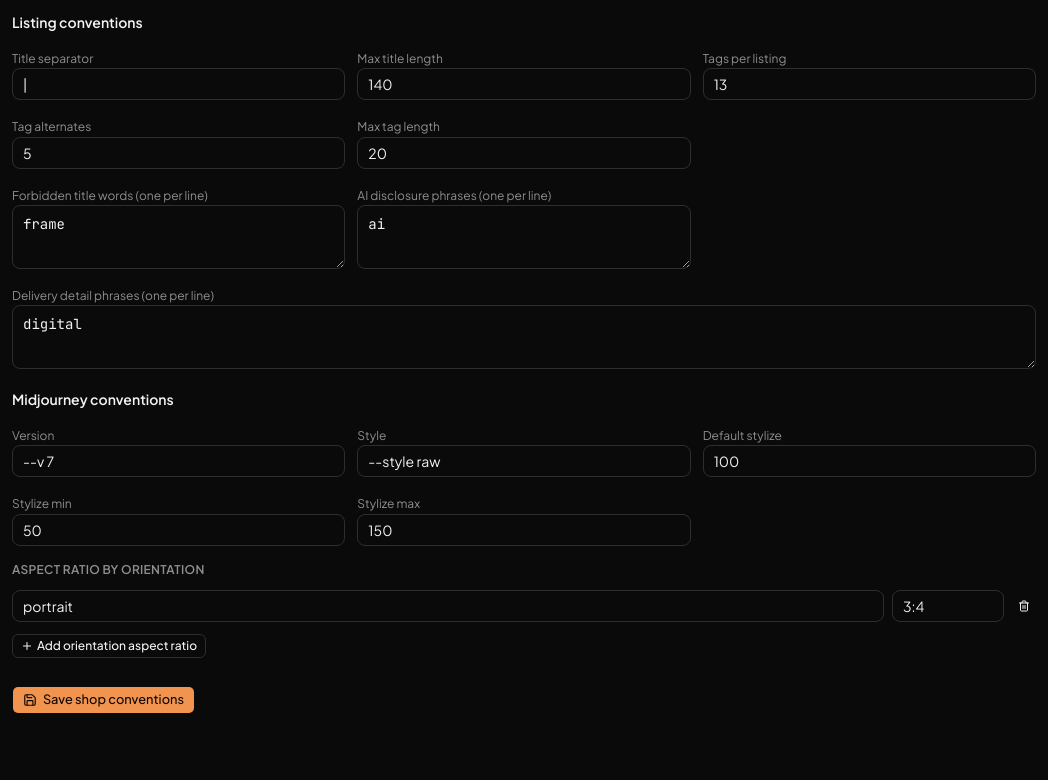
Test: ShopConventions › saves edits successfully
Expected: the field showing "|" is shown, [12,68,345,100]
Replace the text in the number field showing "140" with "150": (524, 84) [357,68,691,100]
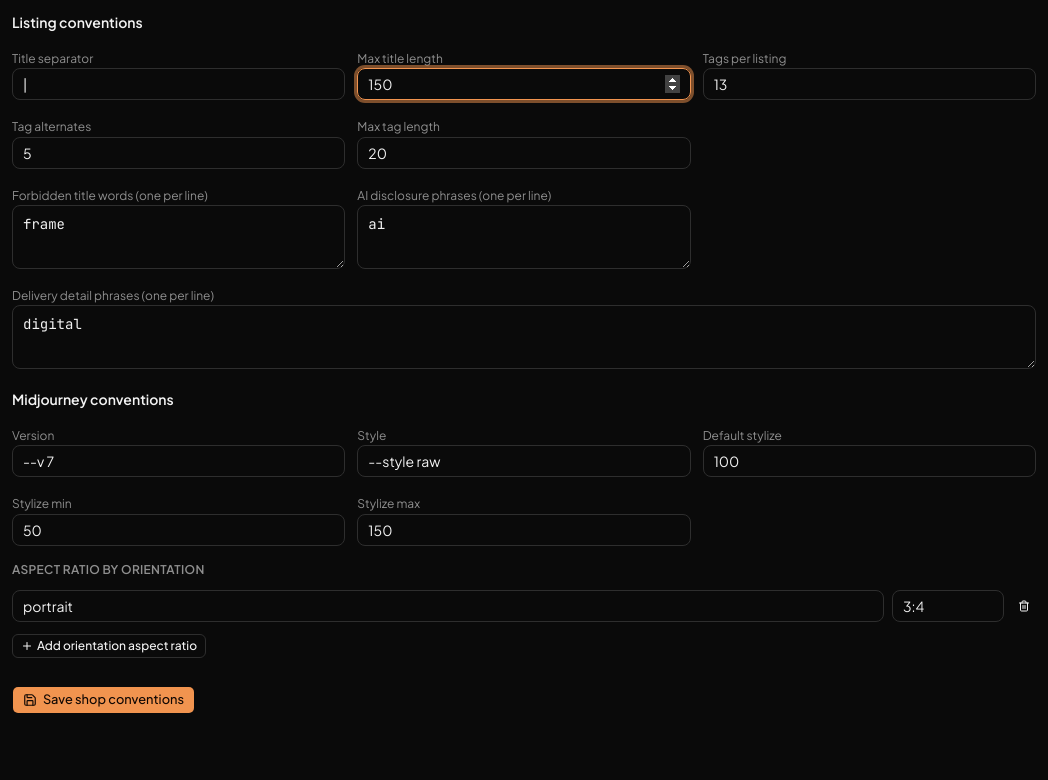
Click the button "Save shop conventions": (104, 700) [12,686,195,714]
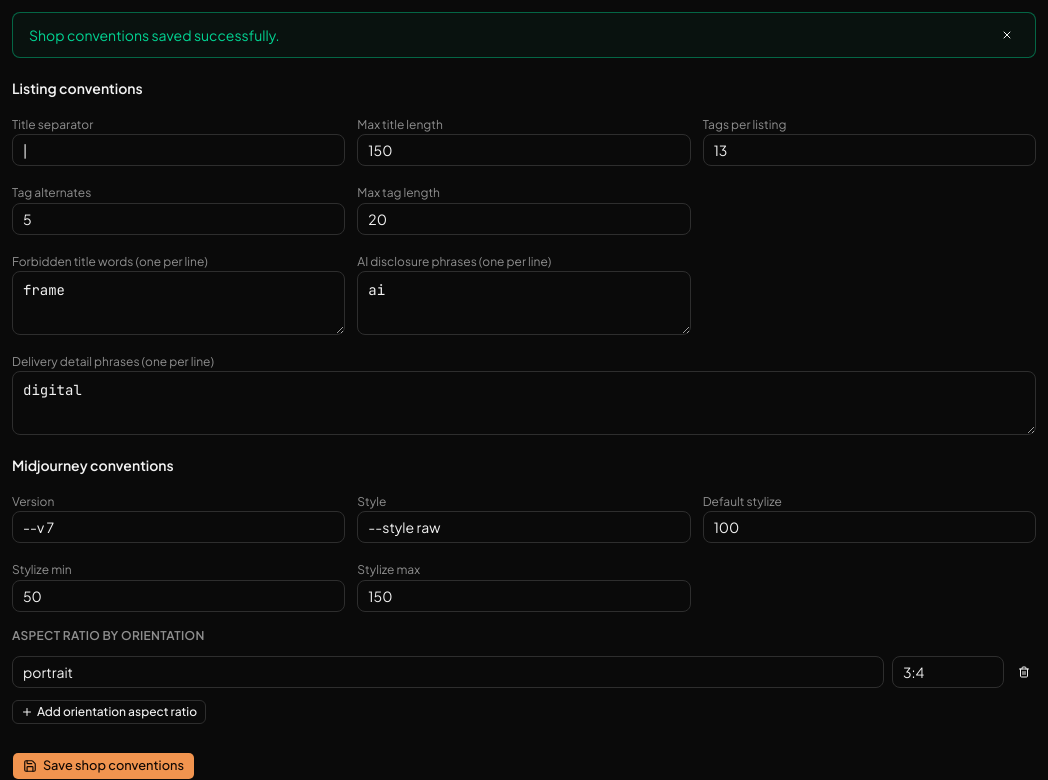
Expected: the text "Shop conventions saved successfully." is shown, [29,25,280,45]
